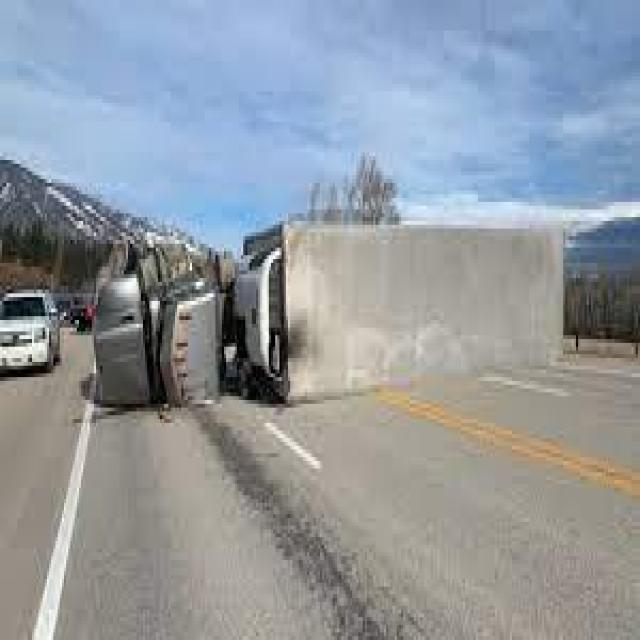severe: (78, 200, 571, 413)
